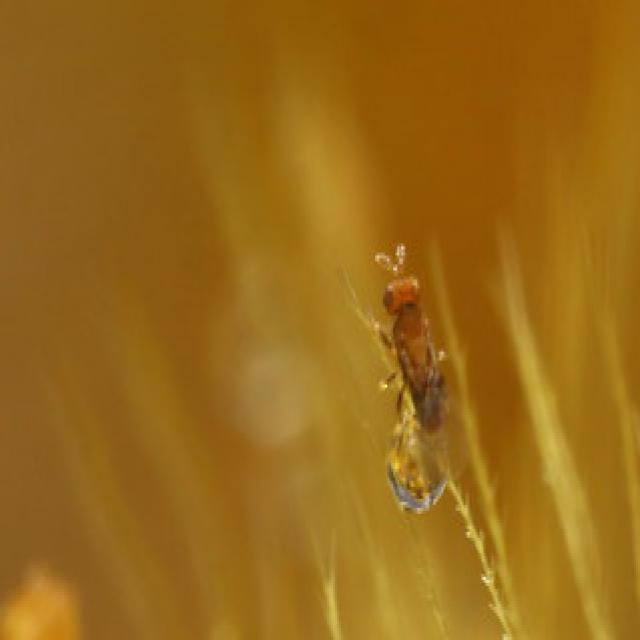Guepe: (365, 235, 462, 517)
